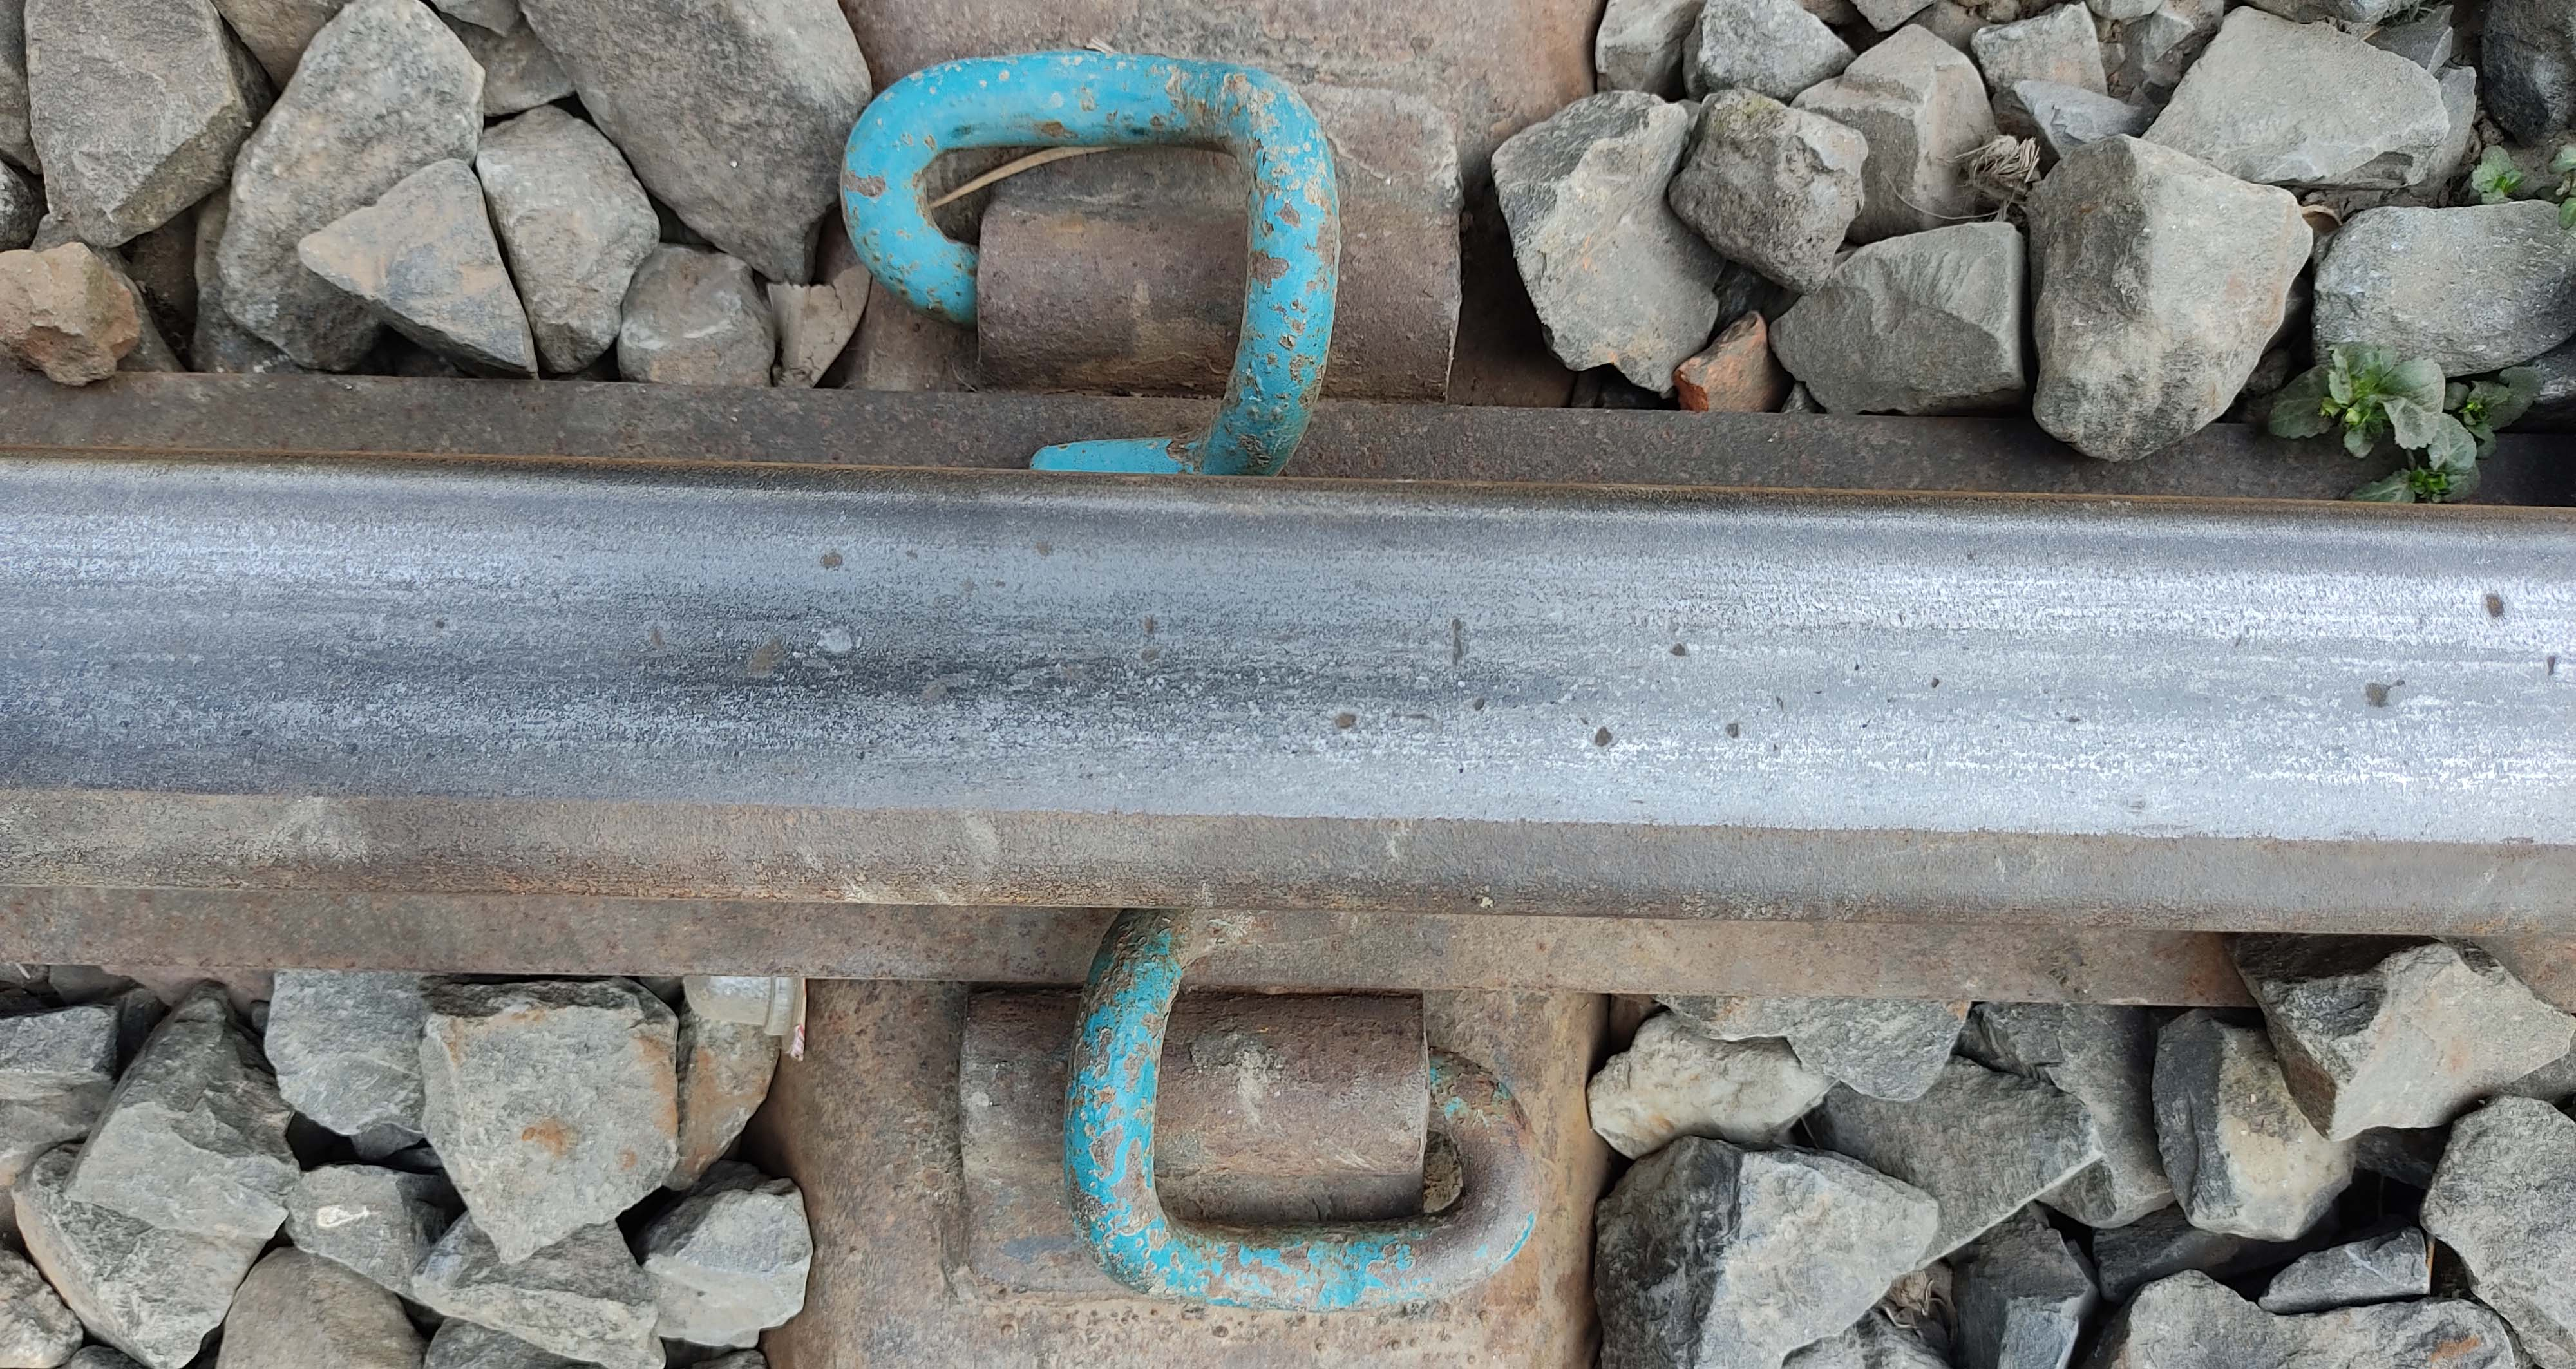error1: (814, 48, 1501, 521), (913, 868, 1569, 1349)
